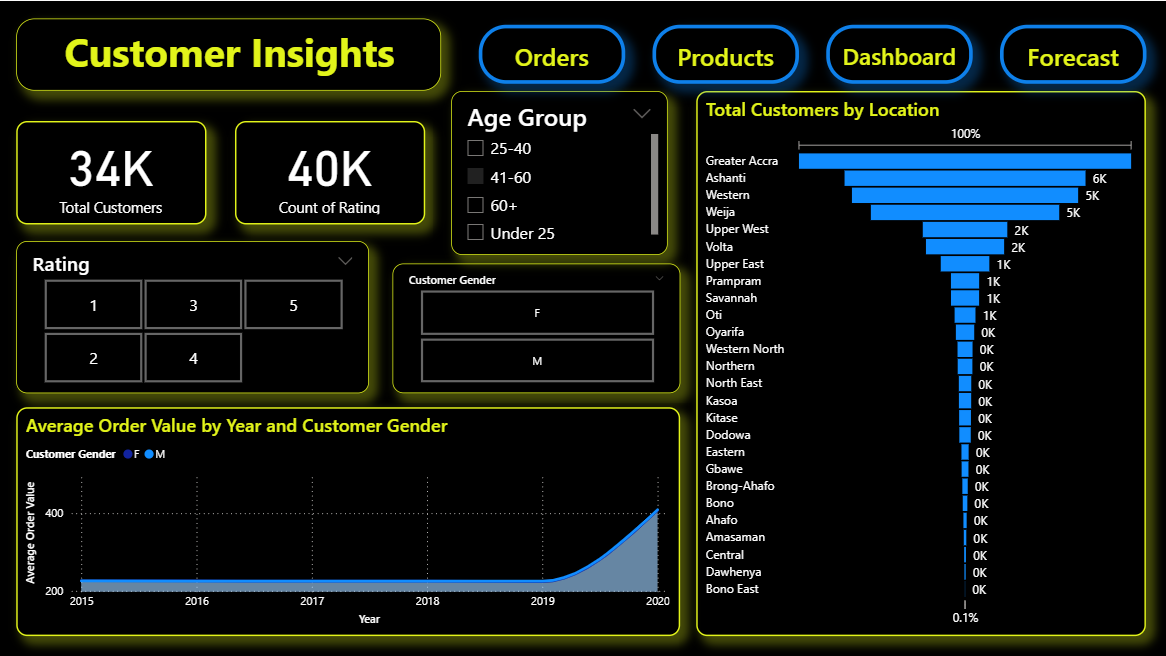

The dashboard page shown, as its layout file describes it:
{"tool":"powerbi","page":{"name":"Page 4","canvas":[1280,720],"ordinal":3},"visuals":[{"type":"textbox","title":"Customer Insights","box":[17.8,19.2,466.6,79.6],"z":0},{"type":"funnel","fields":{"Category":["Flipkart Sales Dataset.Location"],"Y":["Flipkart Sales Dataset.Total Customers"]},"box":[764.3,98.8,494,598.3],"z":1000},{"type":"slicer","fields":{"Values":["Flipkart Sales Dataset.Rating"]},"box":[17.8,263.5,387,167.4],"z":2000},{"type":"slicer","fields":{"Values":["Flipkart Sales Dataset.Customer Gender"]},"box":[430.9,288.2,315.6,142.7],"z":3000},{"type":"card","fields":{"Values":["Flipkart Sales Dataset.Total Customers"]},"box":[17.8,131.7,208.6,113.9],"z":4000},{"type":"card","fields":{"Values":["Flipkart Sales Dataset.Count of Rating"]},"box":[258,131.7,208.6,113.9],"z":5000},{"type":"slicer","fields":{"Values":["Flipkart Sales Dataset.Age Group"]},"box":[495.4,98.8,237.4,179.8],"z":6000},{"type":"areaChart","fields":{"Category":["DateTable.Year"],"Series":["Flipkart Sales Dataset.Customer Gender"],"Y":["Flipkart Sales Dataset.Average Order Value"]},"box":[17.8,446,728.6,251.1],"z":7000},{"type":"actionButton","box":[525.6,26.1,160.5,64.5],"z":8000},{"type":"actionButton","box":[716.3,26.1,160.5,64.5],"z":9000},{"type":"actionButton","box":[907,26.1,160.5,64.5],"z":10000},{"type":"actionButton","box":[1097.8,26.1,160.5,64.5],"z":11000}]}

Visuals, with their boxes in screenshot pixels (x1, y1, x2, y2), scaled from the page's 1280x720 canvas onto the 1166x656 screenshot:
"Customer Insights" textbox: bbox=(16, 17, 441, 90)
funnel - Flipkart Sales Dataset.Location x Flipkart Sales Dataset.Total Customers: bbox=(696, 90, 1146, 635)
slicer - Flipkart Sales Dataset.Rating: bbox=(16, 240, 369, 393)
slicer - Flipkart Sales Dataset.Customer Gender: bbox=(393, 263, 680, 393)
card - Flipkart Sales Dataset.Total Customers: bbox=(16, 120, 206, 224)
card - Flipkart Sales Dataset.Count of Rating: bbox=(235, 120, 425, 224)
slicer - Flipkart Sales Dataset.Age Group: bbox=(451, 90, 668, 254)
areaChart - DateTable.Year x Flipkart Sales Dataset.Customer Gender: bbox=(16, 406, 680, 635)
actionButton: bbox=(479, 24, 625, 83)
actionButton: bbox=(653, 24, 799, 83)
actionButton: bbox=(826, 24, 972, 83)
actionButton: bbox=(1000, 24, 1146, 83)
